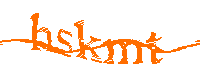h: (29, 12, 54, 52)
k: (75, 18, 102, 62)
m: (102, 39, 143, 64)
s: (56, 27, 73, 59)
t: (146, 32, 164, 67)
